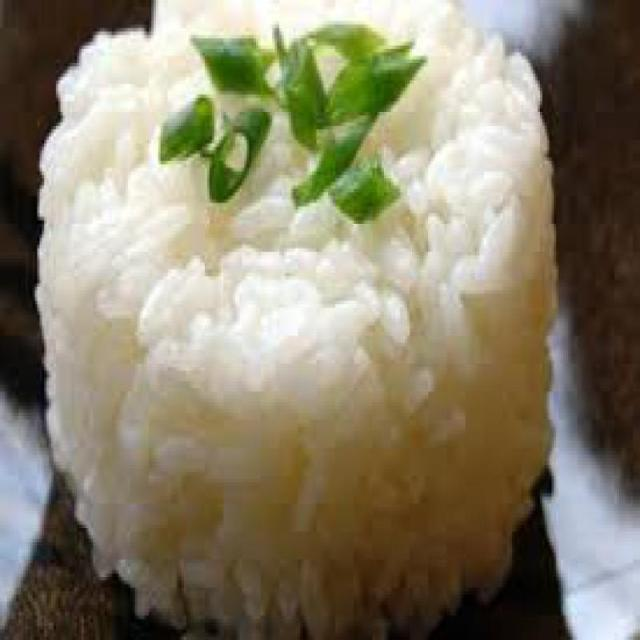nasi_putih: (36, 0, 558, 640)
